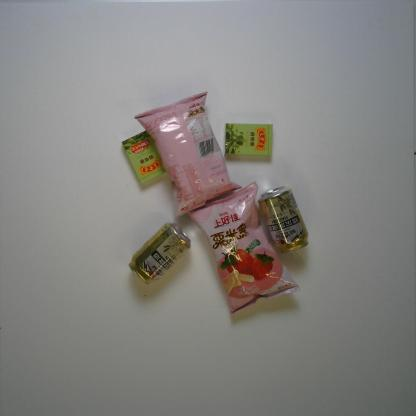Alcohol: (128, 220, 192, 284), (257, 184, 309, 254)
Candy: (121, 130, 166, 184), (222, 122, 273, 156)
Puffed Food: (186, 179, 302, 317), (134, 90, 243, 220)
